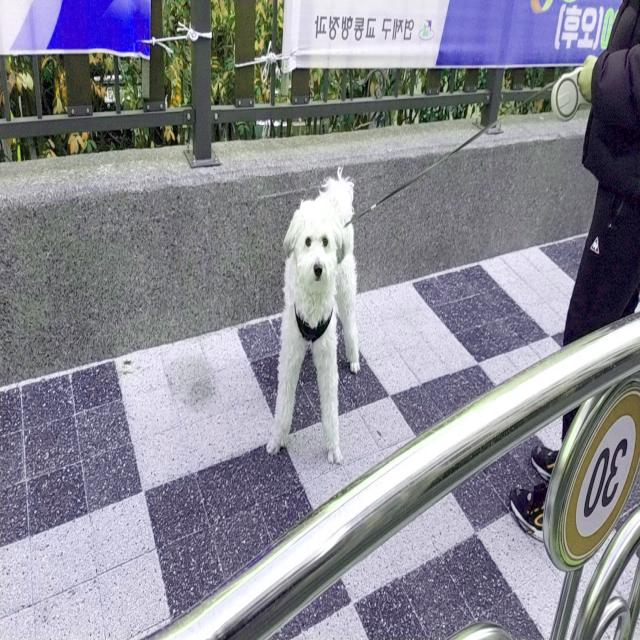Leashed_Dog: (266, 54, 599, 463)
